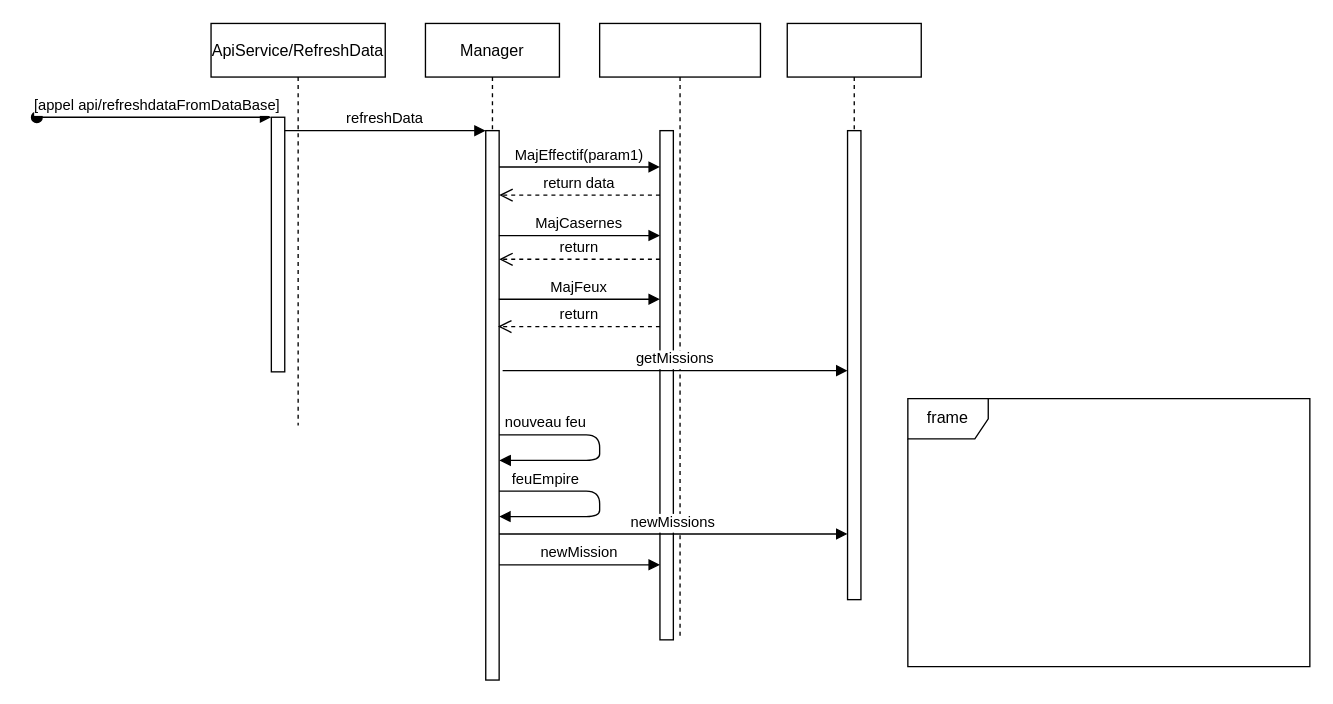
Some shapes in this 1333 by 704 pixel diagram are drawn without their labels. The box of each missing label's shape, as (x1, y1, x2, y2) in pixels:
DataBaseConnector: (598, 22, 760, 640)
Mission: (786, 22, 921, 600)
